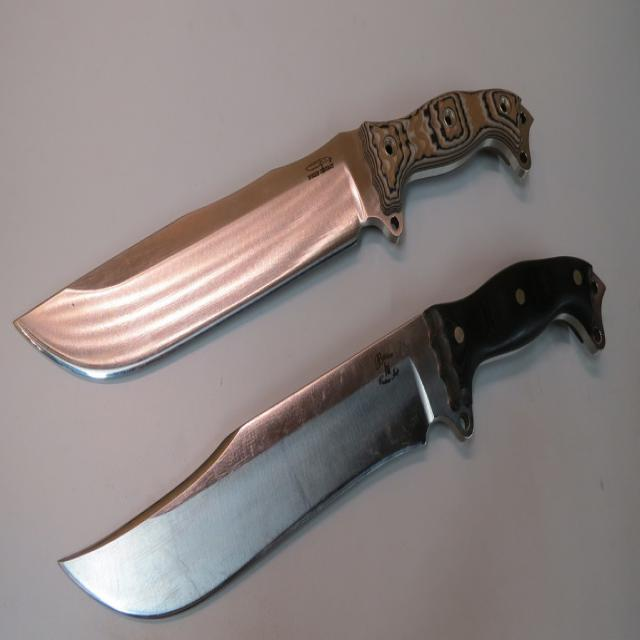Knife: (56, 257, 605, 622), (13, 91, 530, 384)
